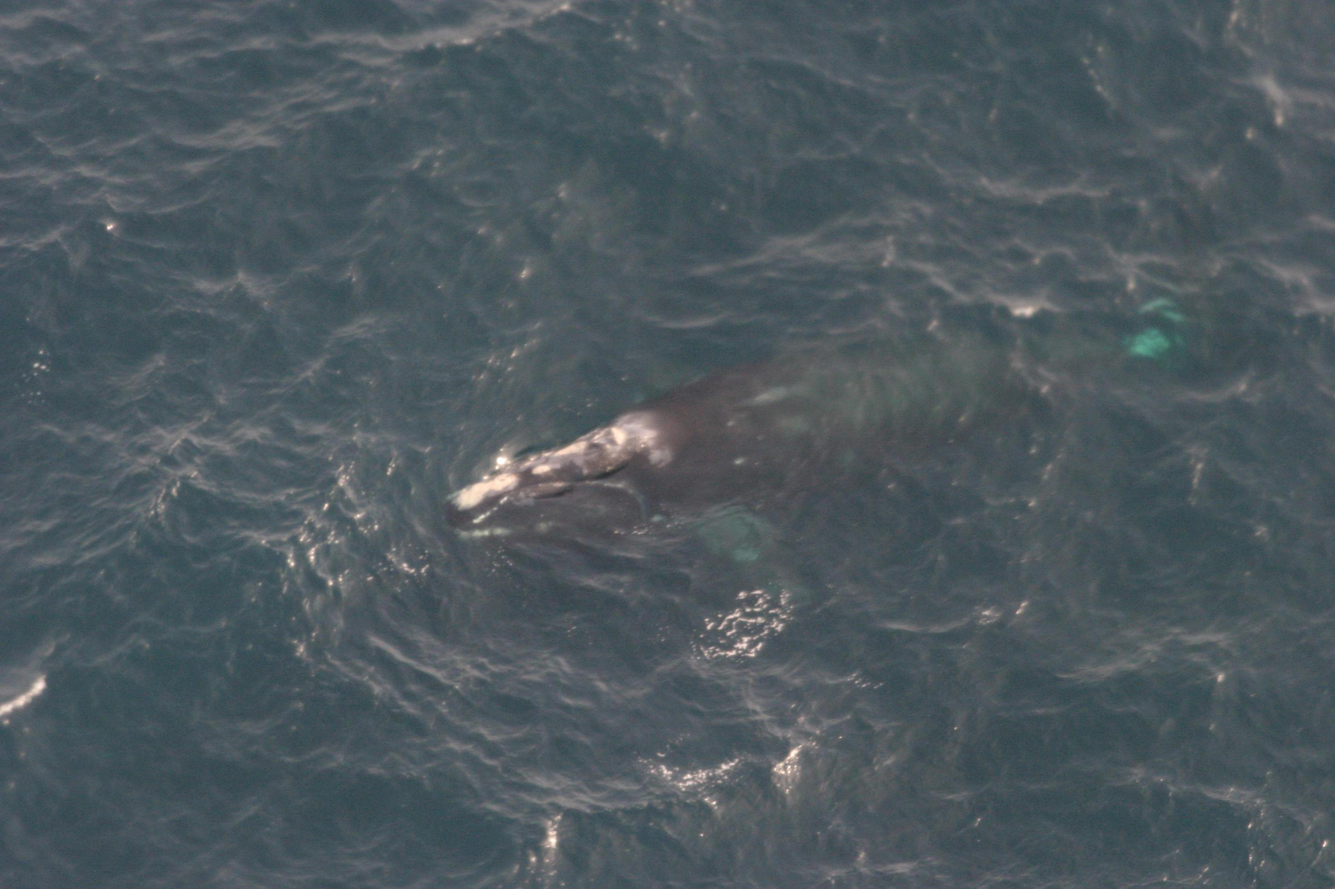whale: (437, 251, 1254, 626)
